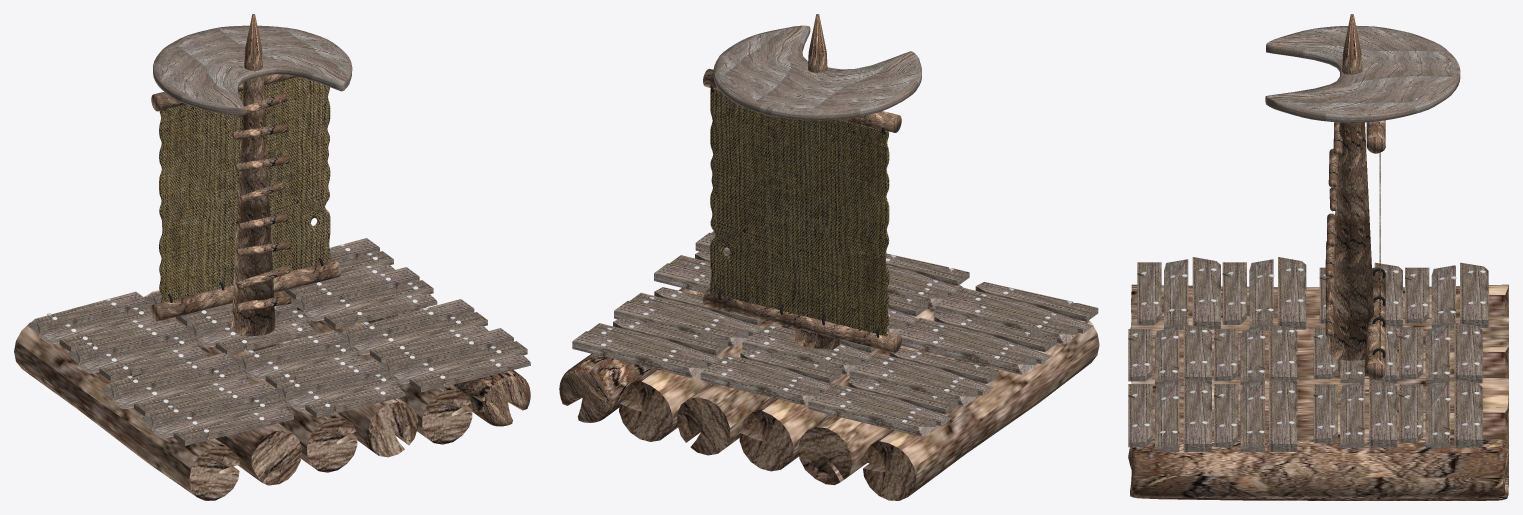
The model's file is Plot@walk.fbx.
The picture shows the model from 3 angles, left to right: view 1: azimuth 30°, elevation 25°; view 2: azimuth 150°, elevation 25°; view 3: azimuth 270°, elevation 25°; orthographic projection. The views are drawn at different scales.
Visible parts, largest first — view 1: wood.003, Plane, Cylinder.012, churka3LP, Cylinder, churka1LP, churka1LP.002, churka2hp, churka1LP.001, churka1LP.003, Cylinder.010, bolt.003 (+1 smaller); view 2: wood.003, Plane, Cylinder.012, churka3LP, churka1LP, churka1LP.002, churka2hp, churka1LP.001, churka1LP.003, Cylinder.010, Cylinder, bolt.003 (+1 smaller); view 3: wood.003, churka1LP.003, Cylinder.012, Cylinder, churka1LP.001, churka1LP.002, churka2hp, churka1LP, churka3LP, bolt.003, Cylinder.010, Cylinder.011.
Boxes of the visible parts, <box> form: wood.003: <box>27,238,530,445</box>; Plane: <box>159,77,330,302</box>; Cylinder.012: <box>153,25,352,115</box>; churka3LP: <box>14,322,239,500</box>; Cylinder: <box>231,14,275,351</box>; churka1LP: <box>144,290,357,472</box>; churka1LP.002: <box>274,291,472,444</box>; churka2hp: <box>130,368,301,485</box>; churka1LP.001: <box>275,335,417,457</box>; churka1LP.003: <box>367,307,530,426</box>; Cylinder.010: <box>151,260,340,321</box>; bolt.003: <box>46,244,501,432</box>; wood.003: <box>572,231,1098,436</box>; Plane: <box>710,88,889,336</box>; Cylinder.012: <box>713,25,921,120</box>; churka3LP: <box>863,318,1099,500</box>; churka1LP: <box>739,283,962,471</box>; churka1LP.002: <box>619,321,781,441</box>; churka2hp: <box>798,350,983,485</box>; churka1LP.001: <box>677,383,772,455</box>; churka1LP.003: <box>559,288,704,422</box>; Cylinder.010: <box>703,288,901,352</box>; Cylinder: <box>794,14,840,350</box>; bolt.003: <box>601,255,1072,423</box>; wood.003: <box>1128,257,1488,451</box>; churka1LP.003: <box>1130,438,1508,500</box>; Cylinder.012: <box>1265,25,1460,122</box>; Cylinder: <box>1328,14,1373,376</box>; churka1LP.001: <box>1131,378,1508,408</box>; churka1LP.002: <box>1128,407,1508,469</box>; churka2hp: <box>1131,316,1508,347</box>; churka1LP: <box>1131,347,1508,383</box>; churka3LP: <box>1130,284,1508,328</box>; bolt.003: <box>1132,268,1485,435</box>; Cylinder.010: <box>1366,267,1385,379</box>; Cylinder.011: <box>1366,120,1385,153</box>.
Size of the model in its own units: 16955 by 16988 by 14422.
